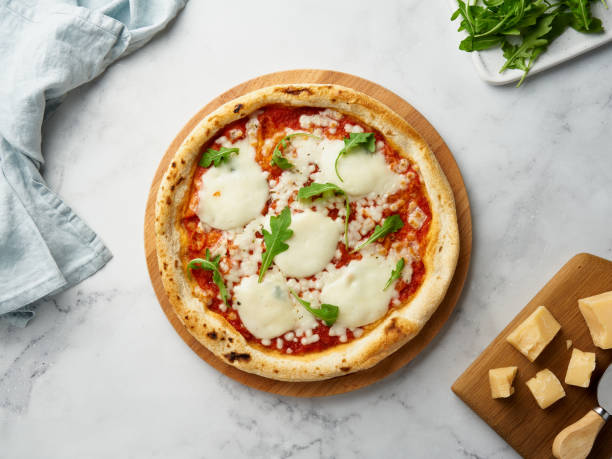Pizza: (125, 71, 481, 387)
